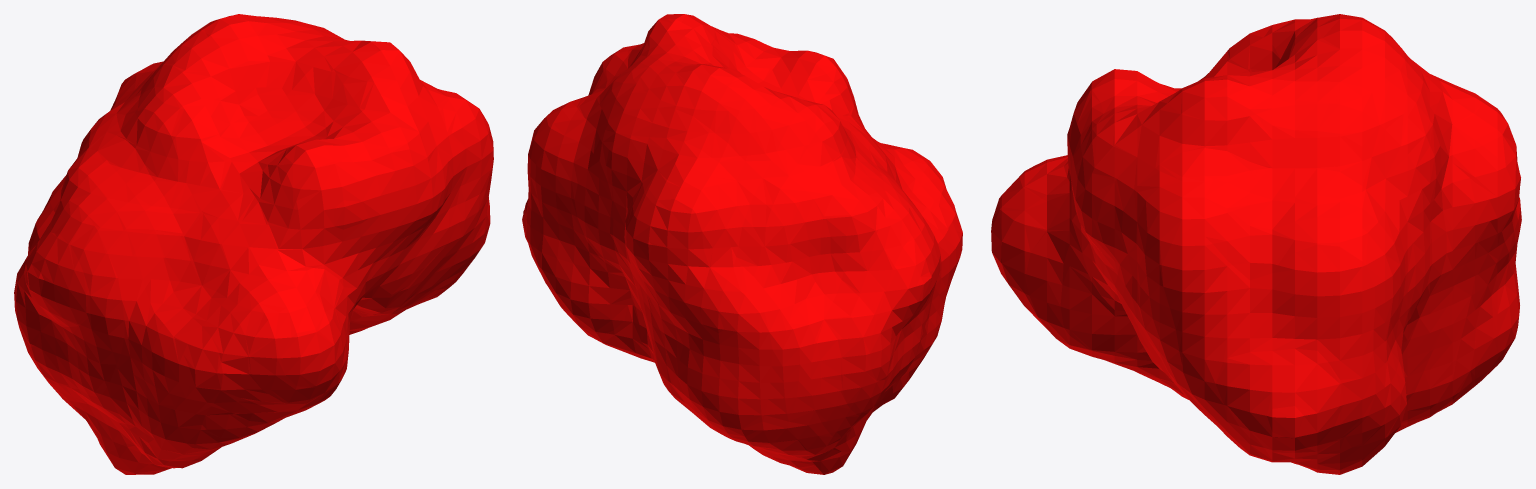
Rendered from pflA_coarse.dae.
3 views of the same model, side by side, from view 1: azimuth 30°, elevation 25°; view 2: azimuth 150°, elevation 25°; view 3: azimuth 270°, elevation 25° (orthographic). The views are drawn at different scales.
Parts seen in each view (by area): view 1: pflA; view 2: pflA; view 3: pflA.
Part boxes in pixels (left/top/right/bottom): pflA: left=14, top=14, right=493, bottom=474; pflA: left=522, top=14, right=962, bottom=474; pflA: left=991, top=14, right=1521, bottom=474.
Size of the model in its own units: 55.84 by 50.43 by 49.08.
